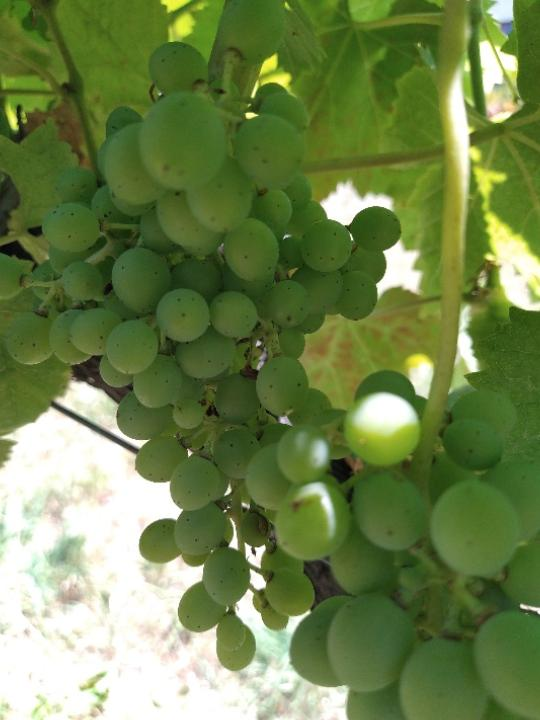grape: (1, 4, 406, 673)
